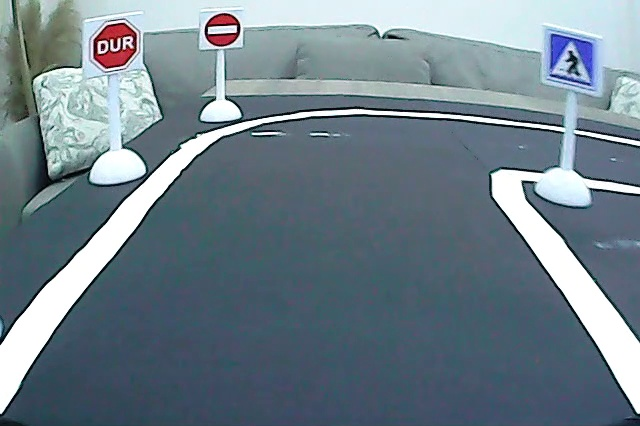do not enter: (201, 10, 242, 49)
pedestrian crossing: (544, 28, 600, 94)
stop sign: (88, 16, 142, 72)
